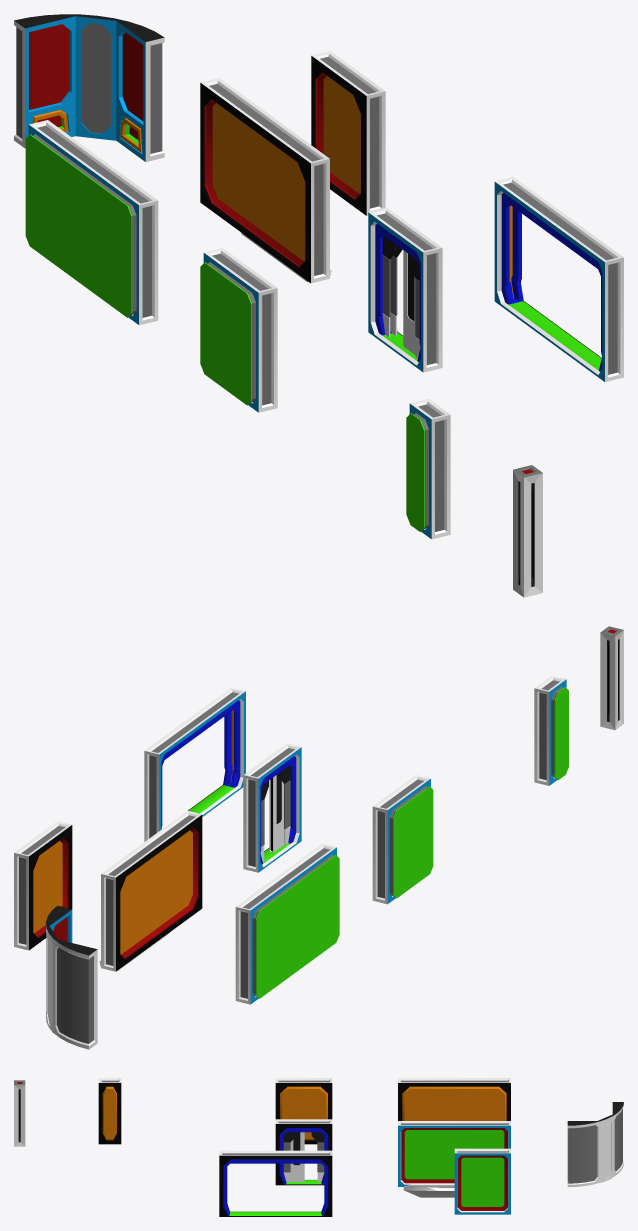
The model's file is CityInteriorWalls00.fbx.
3 views of the same model, one above another, from view 1: azimuth 30°, elevation 25°; view 2: azimuth 150°, elevation 25°; view 3: azimuth 270°, elevation 25° (orthographic). The views are drawn at different scales.
Parts seen in each view (by area): view 1: Box006, Box011, Cylinder002, Box014, Box007, Box013, Box012, Box008, Box015, Wall00_3x2.5corner, Door01, Box016; view 2: Box006, Box011, Box007, Box014, Box013, Cylinder002, Box012, Box008, Box015, Box016, Door01; view 3: Box011, Box006, Box013, Cylinder002, Box014, Box007, Box008, Box012, Box015, Door01, Wall00_3x2.5corner, Box016.
Boxes of the visible parts, x1,y1,x2,y2 form: Box006: (25, 120, 158, 325); Box011: (200, 78, 331, 283); Cylinder002: (14, 14, 164, 161); Box014: (494, 177, 623, 381); Box007: (200, 248, 277, 412); Box013: (311, 51, 385, 215); Box012: (368, 207, 442, 372); Box008: (406, 398, 450, 539); Box015: (513, 465, 542, 597); Wall00_3x2.5corner: (81, 23, 110, 133); Door01: (382, 236, 420, 358); Box016: (403, 250, 415, 354); Box006: (235, 843, 339, 1004); Box011: (99, 810, 202, 971); Box007: (372, 775, 433, 904); Box014: (144, 687, 245, 841); Box013: (14, 821, 72, 950); Cylinder002: (46, 905, 97, 1049); Box012: (243, 743, 301, 872); Box008: (534, 675, 568, 785); Box015: (600, 626, 623, 730); Box016: (269, 773, 284, 852); Door01: (260, 765, 290, 861); Box011: (398, 1121, 510, 1197); Box006: (398, 1078, 510, 1120); Box013: (454, 1148, 510, 1214); Cylinder002: (567, 1102, 623, 1187); Box014: (219, 1150, 332, 1216); Box007: (275, 1078, 332, 1144); Box008: (98, 1078, 121, 1144); Box012: (275, 1119, 332, 1185); Box015: (14, 1080, 25, 1146); Door01: (283, 1132, 324, 1182); Wall00_3x2.5corner: (601, 1120, 611, 1182); Box016: (290, 1132, 304, 1181).
Size of the model in its own units: 83.05 by 35.09 by 270.
